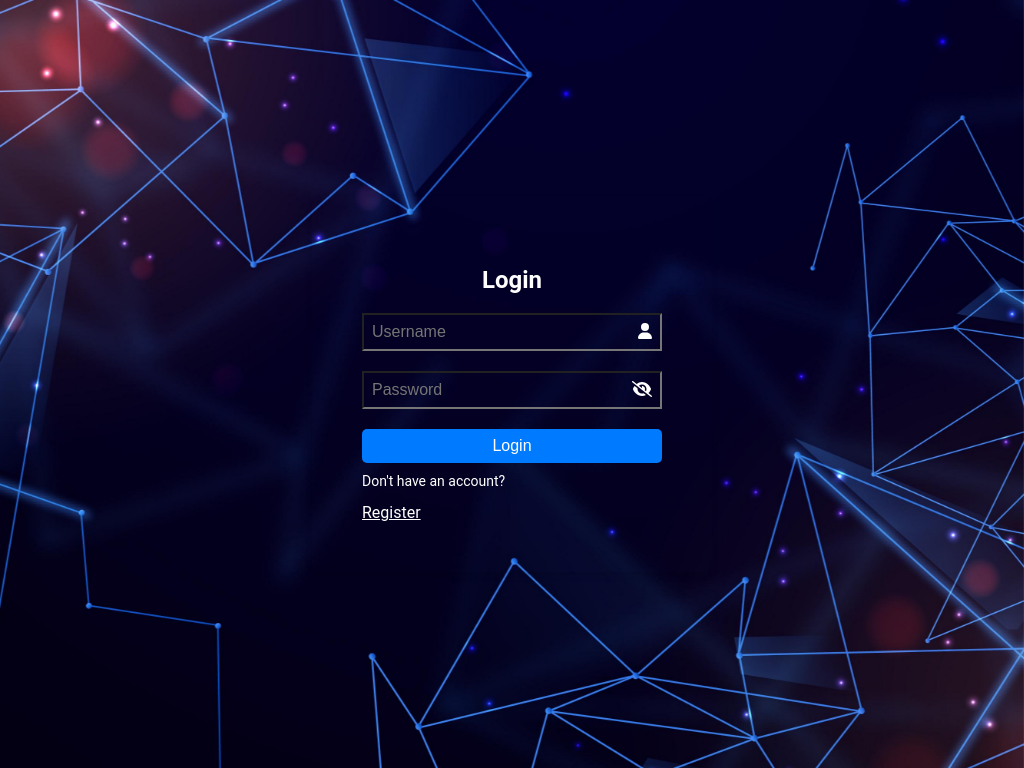
Test: Login Component › should show error message for invalid credentials
Type "invalidUsername" into the field with placeholder "Username".
click(512, 332); type("invalidUsername")  # box [362,313,662,351]
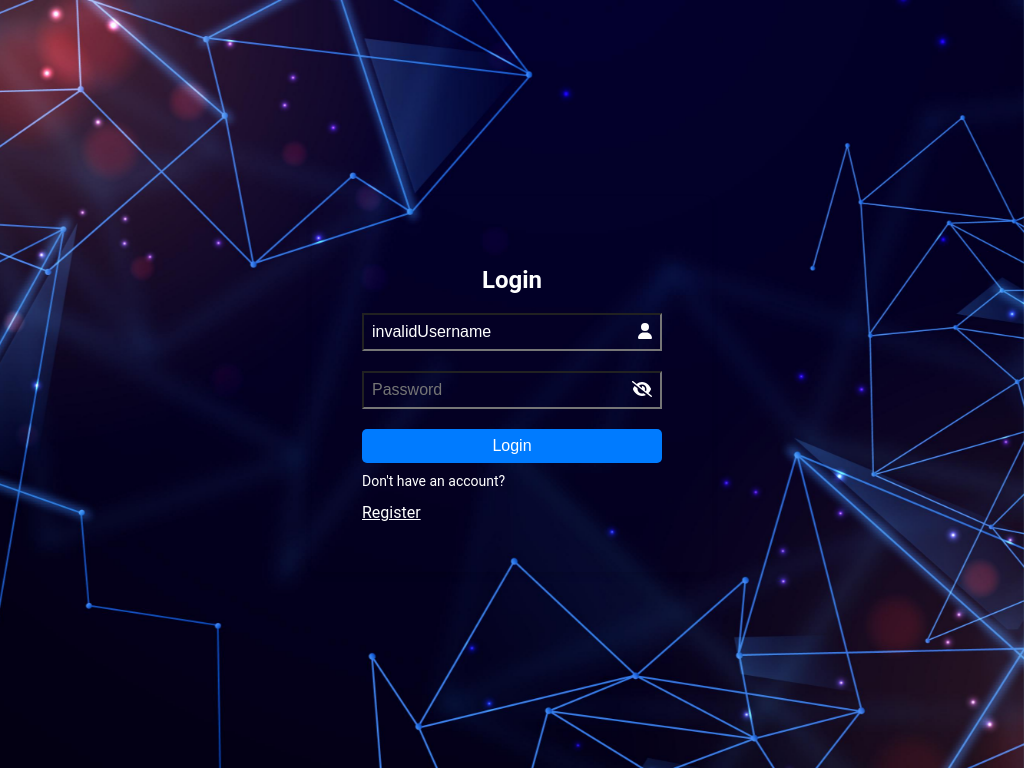
Type "invalidPassword" into the password field with placeholder "Password".
click(512, 390); type("invalidPassword")  # box [362,371,662,409]
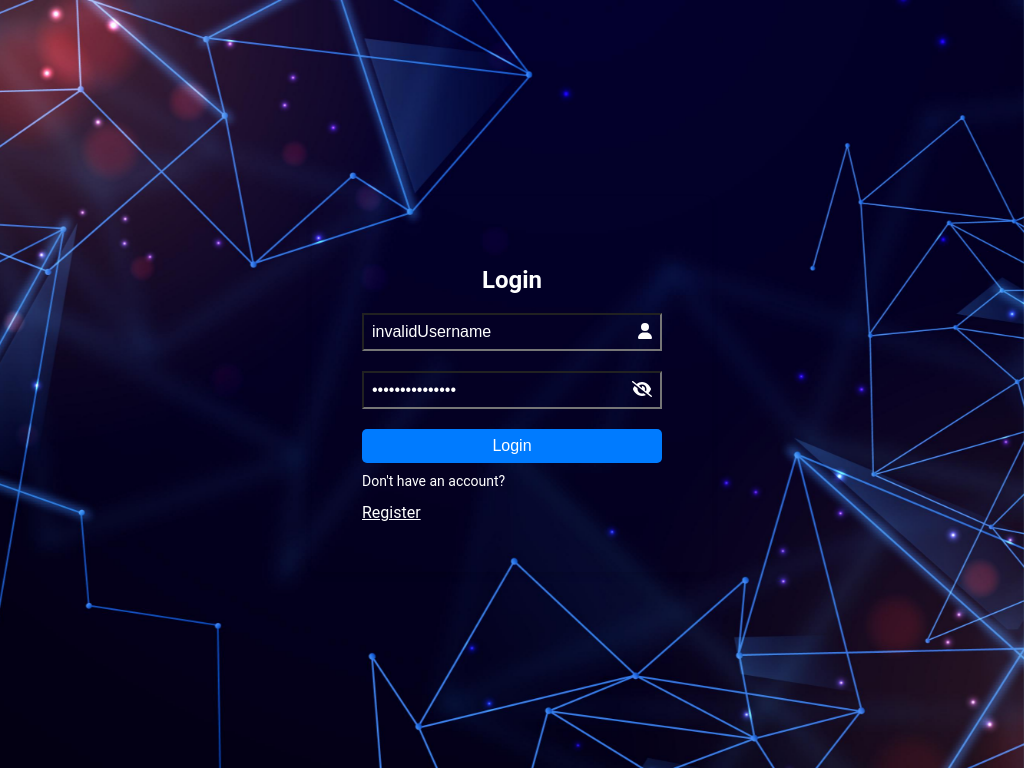
Click the login button
Click the button with test id "login-button".
click(512, 446)  # box [362,429,662,463]
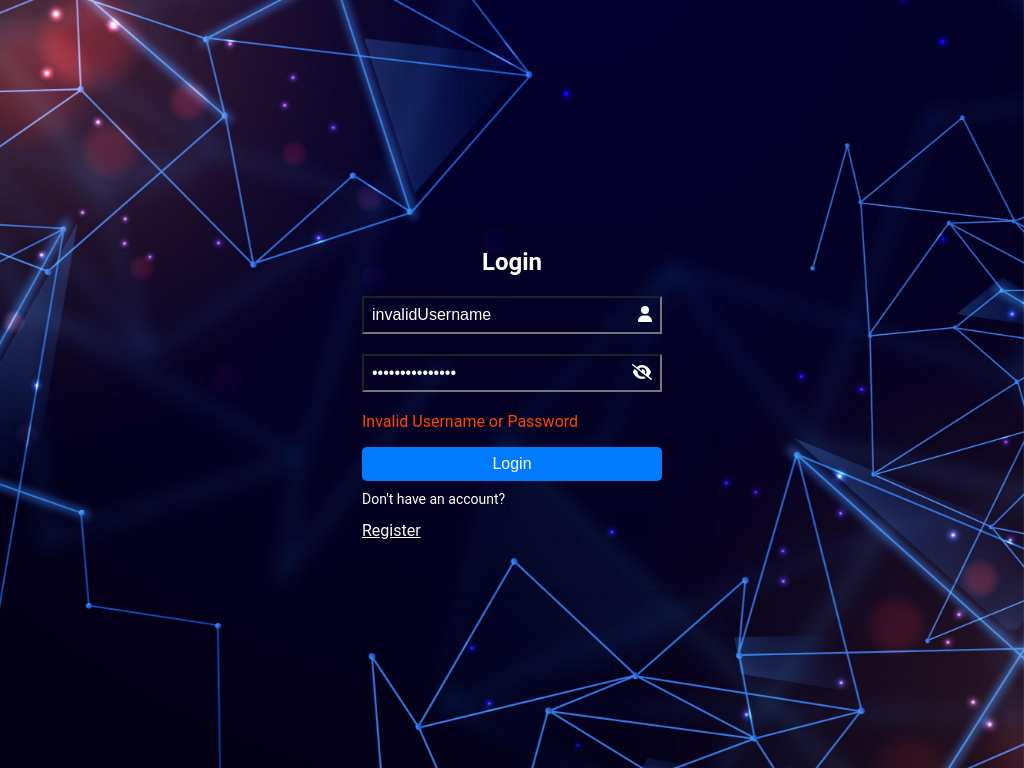
Expected: the text with test id "invalid-username" reads "Invalid Username or Password", [362,412,578,431]
